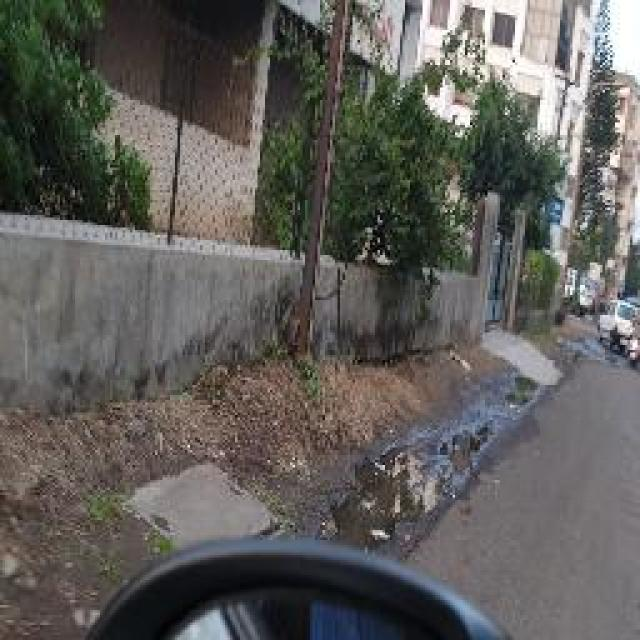stagnation: (361, 422, 474, 537)
